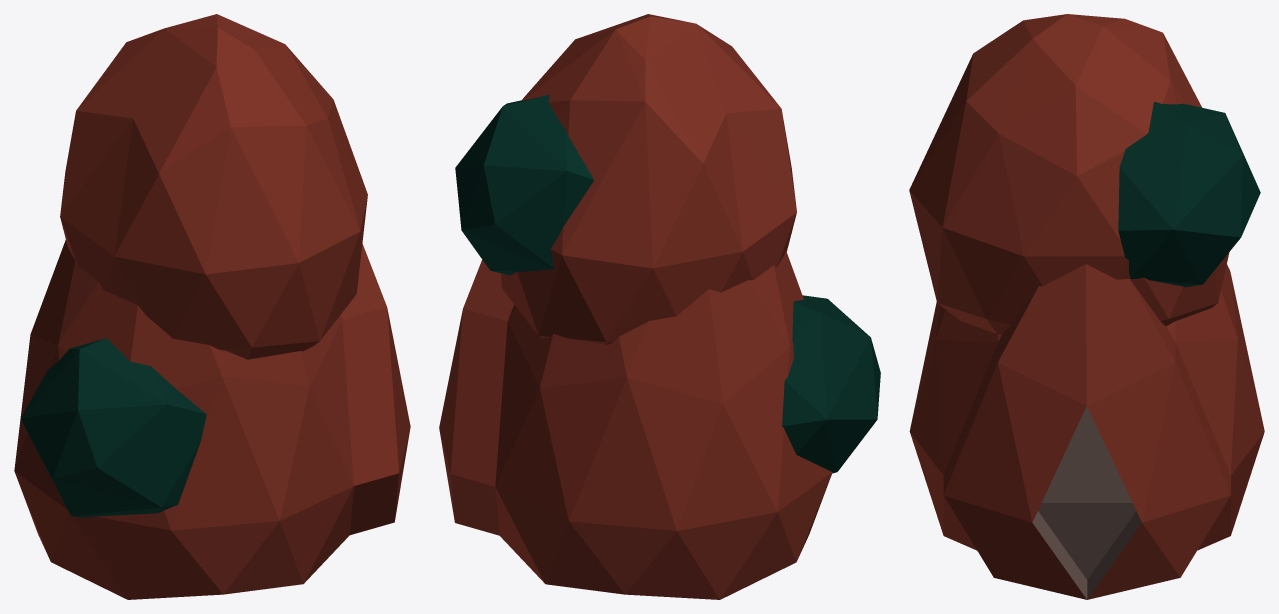
File: EnemyBase.fbx
3 renders of one model, left to right at view 1: azimuth 30°, elevation 25°; view 2: azimuth 150°, elevation 25°; view 3: azimuth 270°, elevation 25°, orthographic.
Parts seen in each view (by area): view 1: EnemyBase; view 2: EnemyBase; view 3: EnemyBase.
Part boxes in pixels (bbox=[...]): EnemyBase: bbox=[14, 14, 410, 599]; EnemyBase: bbox=[439, 14, 880, 599]; EnemyBase: bbox=[909, 14, 1264, 599].
Size of the model in its own units: 1.67 by 2.21 by 1.4.
